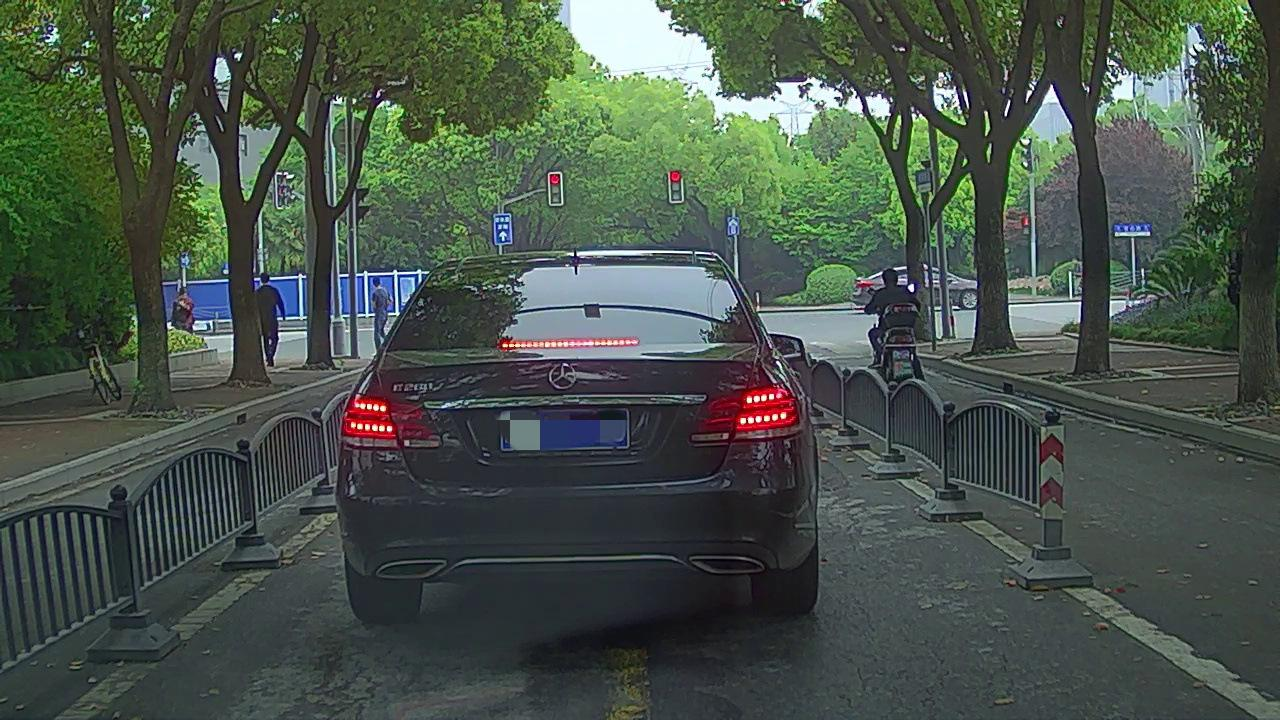traffic_light: (668, 169, 681, 202), (549, 174, 561, 204)
